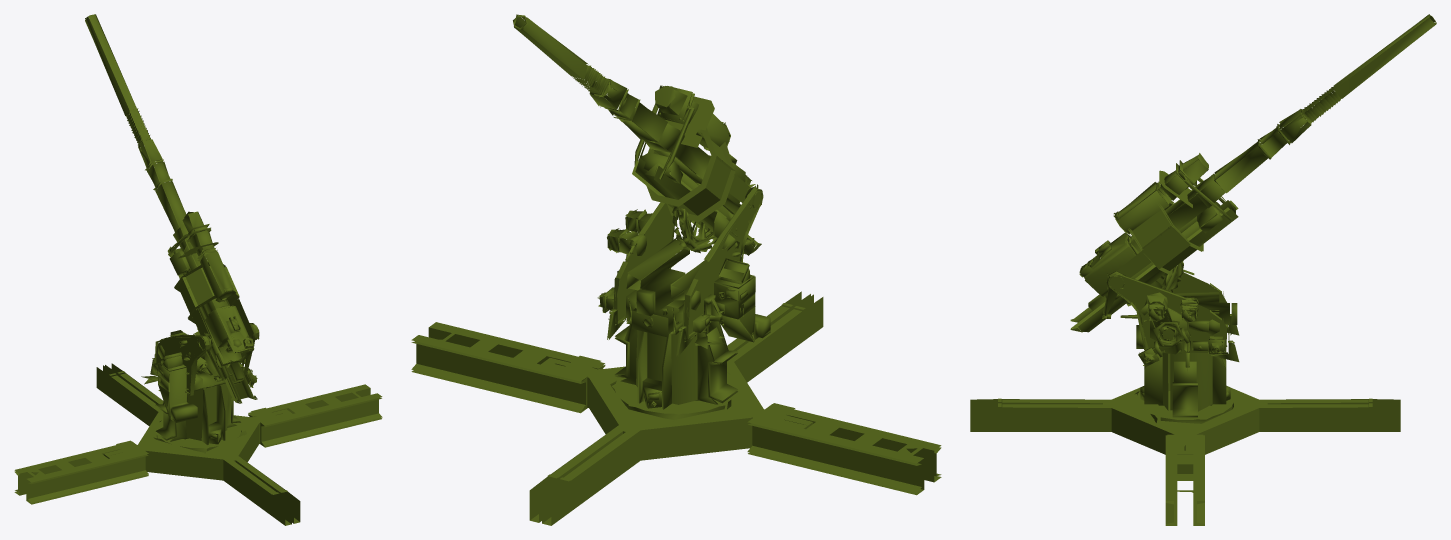
File: 90mmM2LOD0.glb
3 renders of one model, left to right at view 1: azimuth 30°, elevation 25°; view 2: azimuth 150°, elevation 25°; view 3: azimuth 270°, elevation 25°, orthographic. The views are drawn at different scales.
Visible parts, largest first — view 1: Object_14; view 2: Object_14; view 3: Object_14.
Boxes of the visible parts, x1=… form: Object_14: x1=14, y1=14, x2=382, y2=525; Object_14: x1=411, y1=14, x2=941, y2=525; Object_14: x1=970, y1=14, x2=1436, y2=525.
Size of the model in its own units: 7.04 by 6.94 by 7.1.
